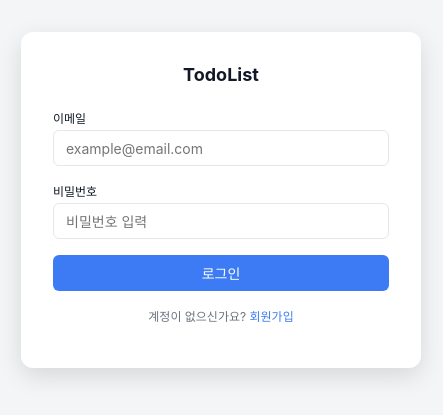
Test: 비밀번호 빈 값 제출 시 유효성 오류
The width and height of the screenshot is (443, 415).
Type "a@b.com" into the field labelled "이메일" at point(221, 148), box [53,130,389,166]
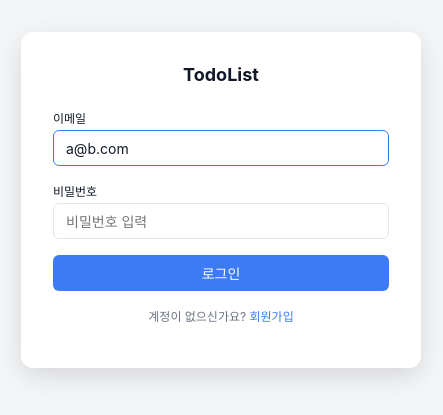
Click the button "로그인" at point(221, 273), box [53,255,389,291]
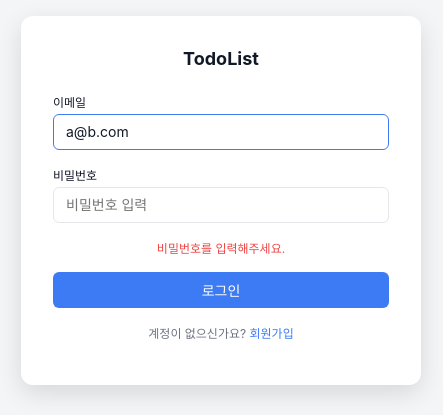
Result: the text "비밀번호를 입력해주세요." is shown at [157,240,285,256]
